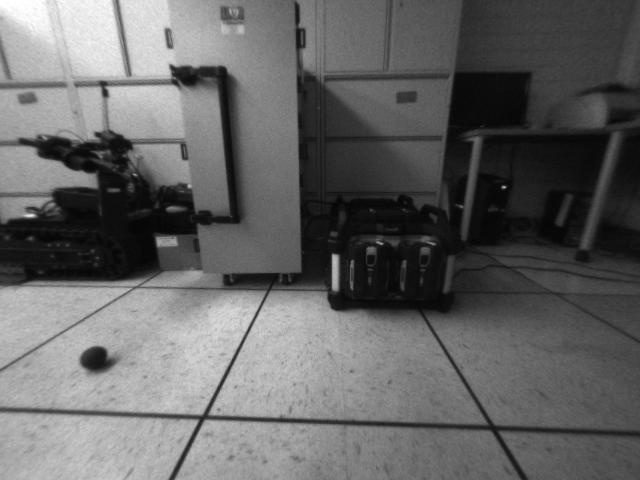dogtoy: (73, 338, 116, 375)
